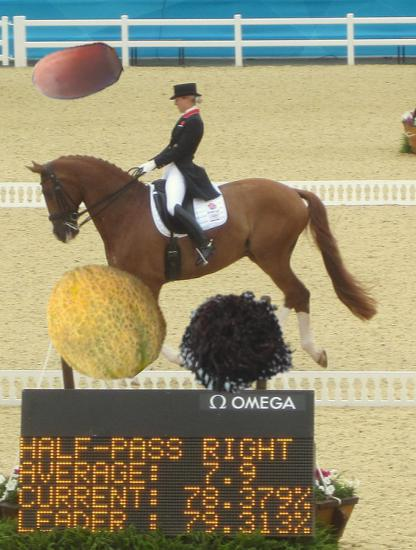Cantaloupe: (41, 259, 167, 385)
Hazelnut: (29, 26, 121, 118)
Rambutan: (180, 283, 301, 404)
